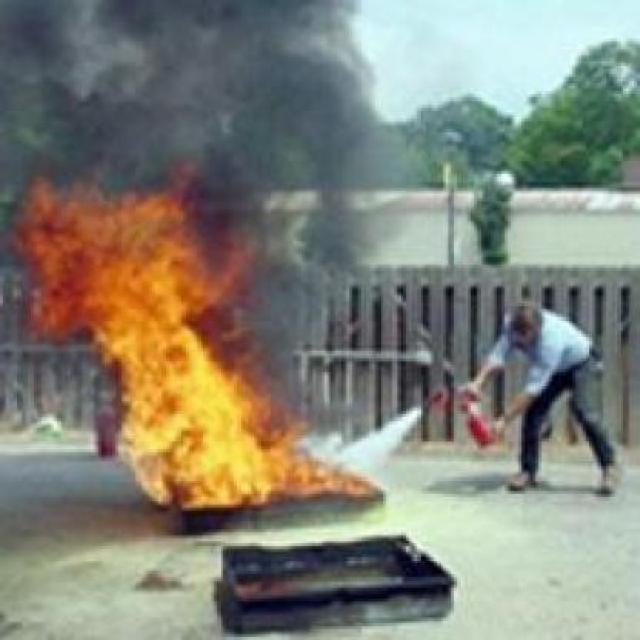Fire: (0, 177, 393, 510)
Smoke: (9, 5, 398, 152)
